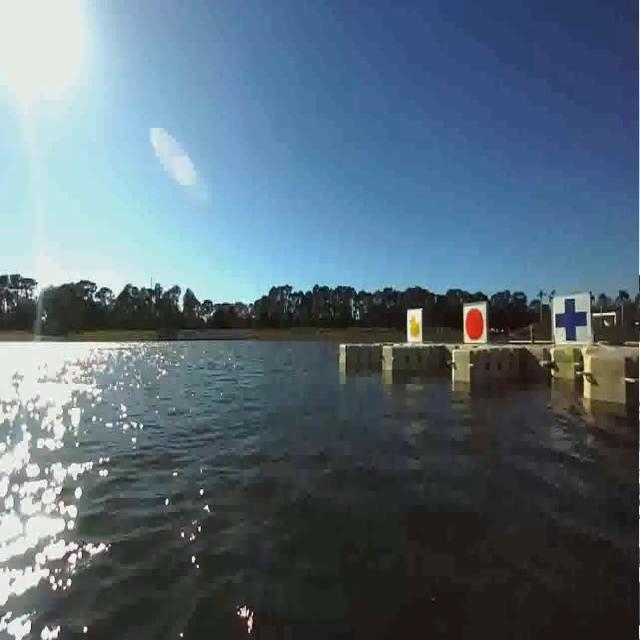blue-cross: (552, 290, 590, 343)
red-dot: (463, 306, 486, 344)
yellow-duck: (406, 309, 422, 342)
